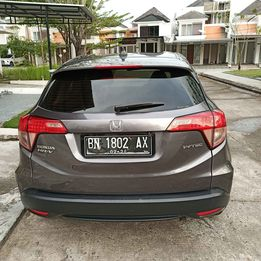plate: (84, 133, 155, 154)
